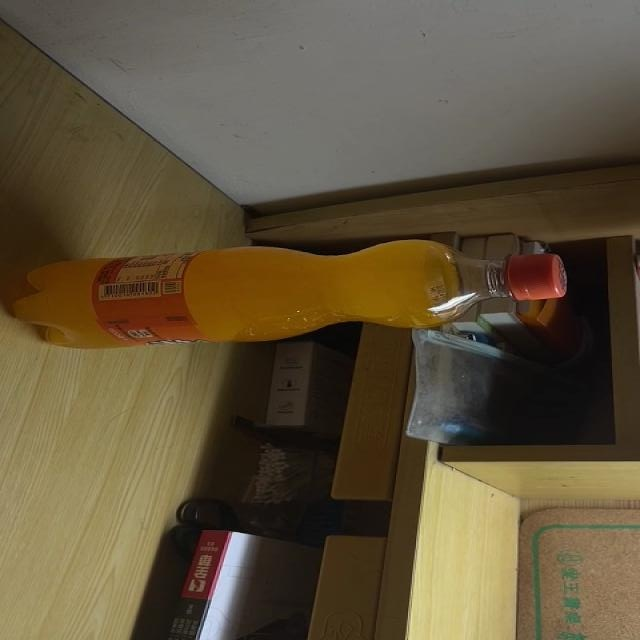Fanta: (11, 239, 569, 352)
